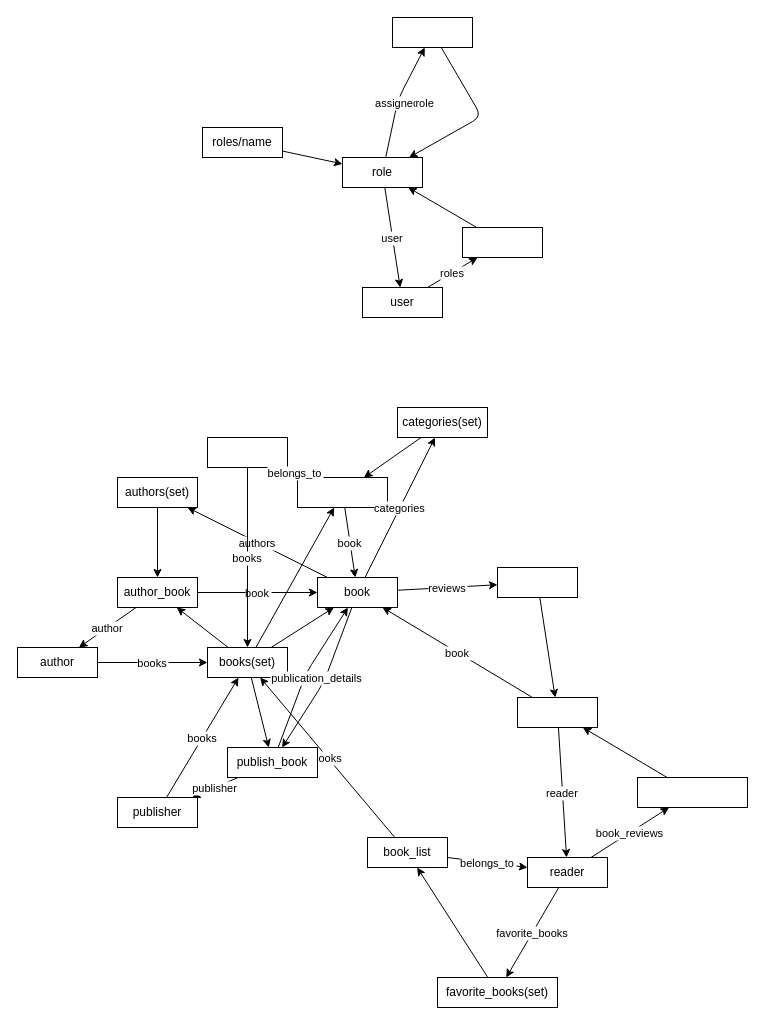
Some shapes in this 765 by 1025 pixel diagram are drawn without their labels. Here are the shapes that lost their labels. From the top down, the centre of each, then its label:
At pixel 432 32: "user_type".
At pixel 502 242: "roles(set)".
At pixel 247 452: "category".
At pixel 342 492: "book_category".
At pixel 537 582: "reviews(set)".
At pixel 557 712: "review_book".
At pixel 692 792: "book_reviews(set)".
